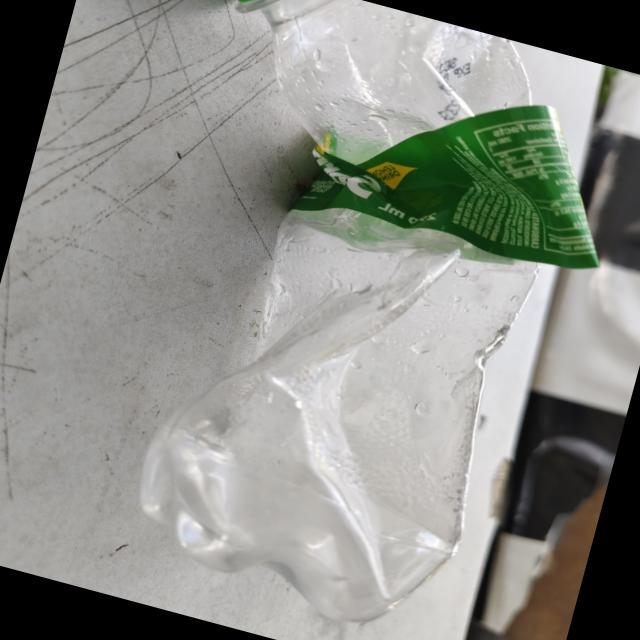Bottle: (139, 0, 596, 621)
